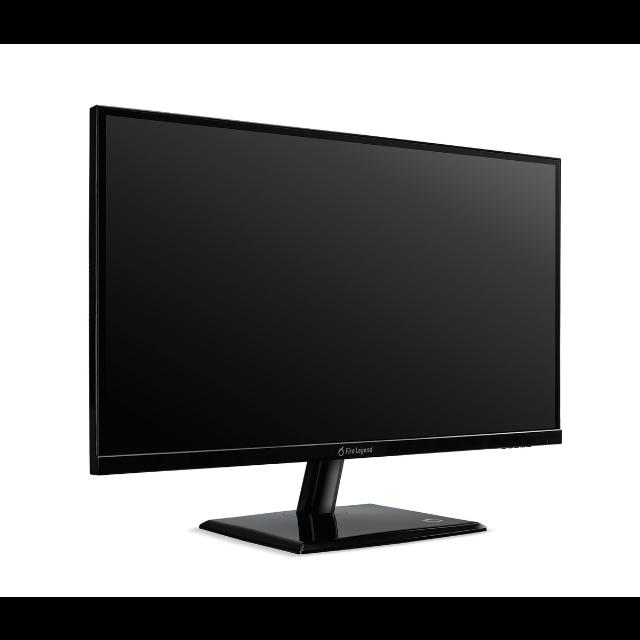Flat-Panel-Monitor: (84, 100, 576, 472)
